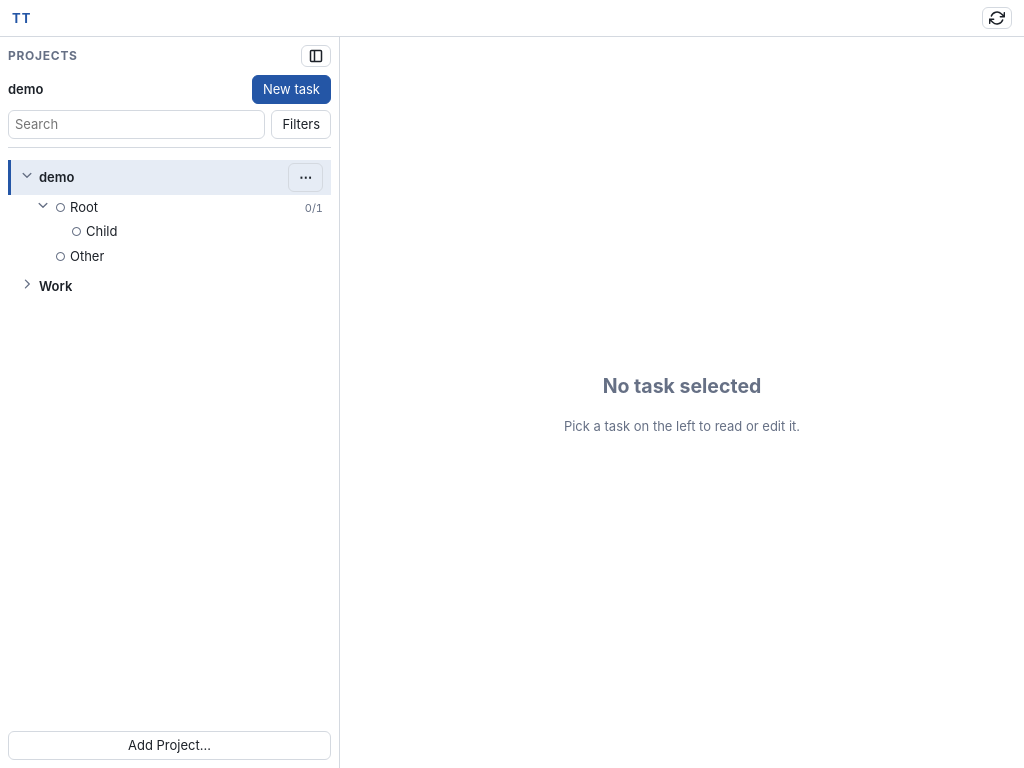
Test case: App › closes the Filters panel when the open project changes
The width and height of the screenshot is (1024, 768).
Expected: the text "Other" is shown, [70,247,104,266]
Click the button "Filters".
click(301, 124)  # box [271,110,331,139]
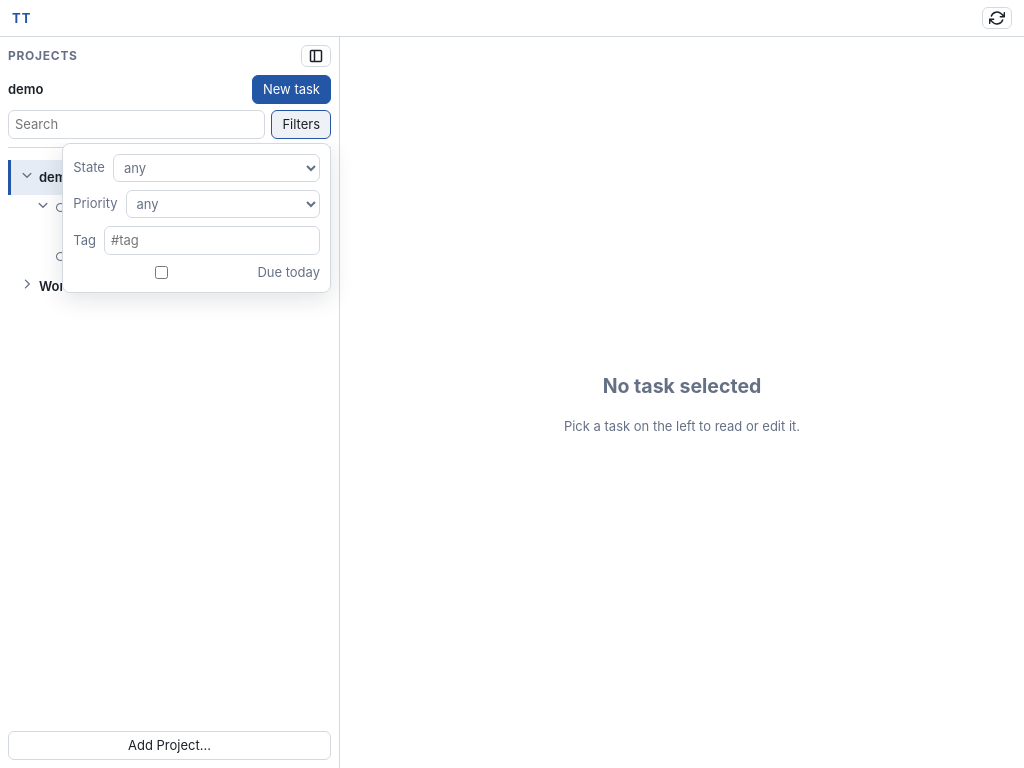
Click the list item "Work".
click(46, 286)  # box [19,277,72,294]
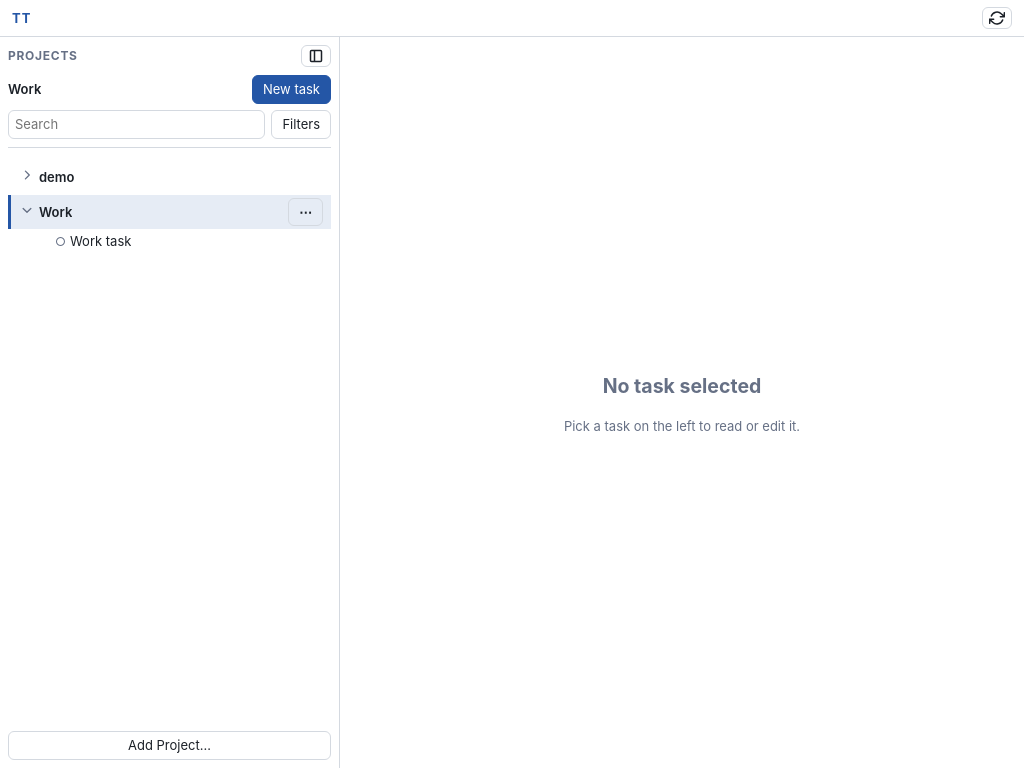
Now the dropdown labelled "Filter state" is gone
